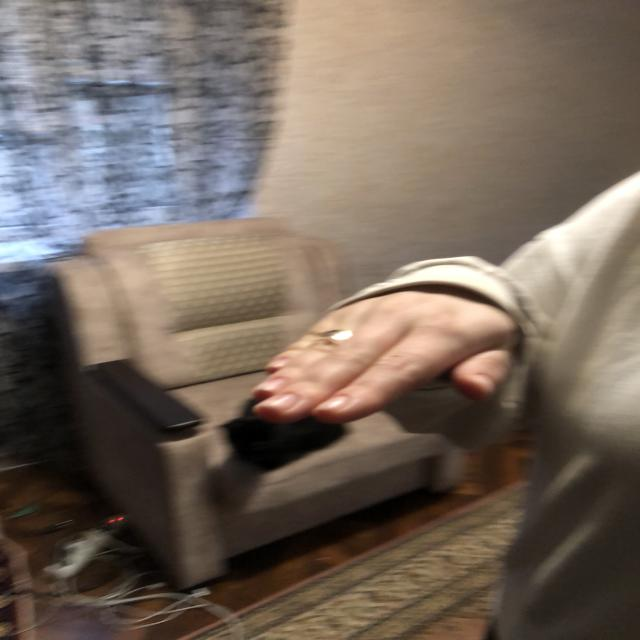paper: (255, 309, 511, 421)
